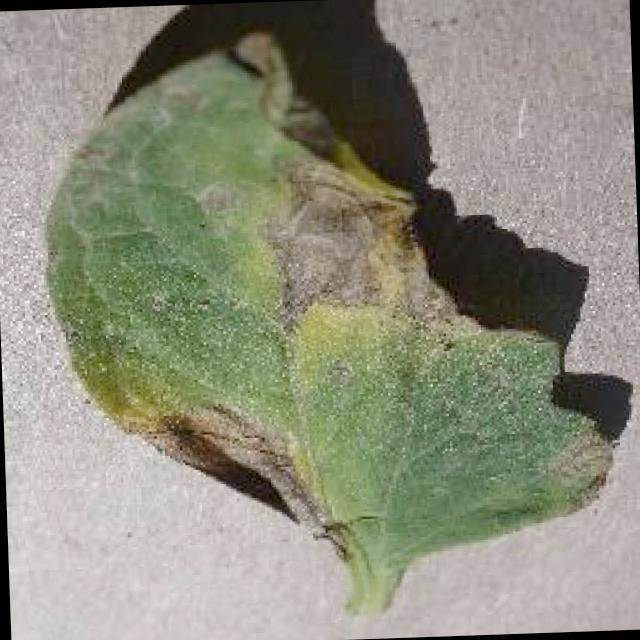Tomato Early blight leaf: (41, 20, 616, 572)
